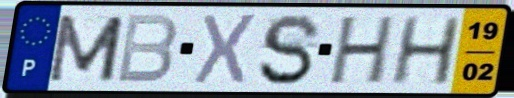B: (113, 12, 181, 85)
H: (387, 15, 464, 87), (325, 14, 399, 87)
M: (44, 12, 128, 84)
S: (255, 11, 324, 88)
X: (190, 11, 261, 88)
